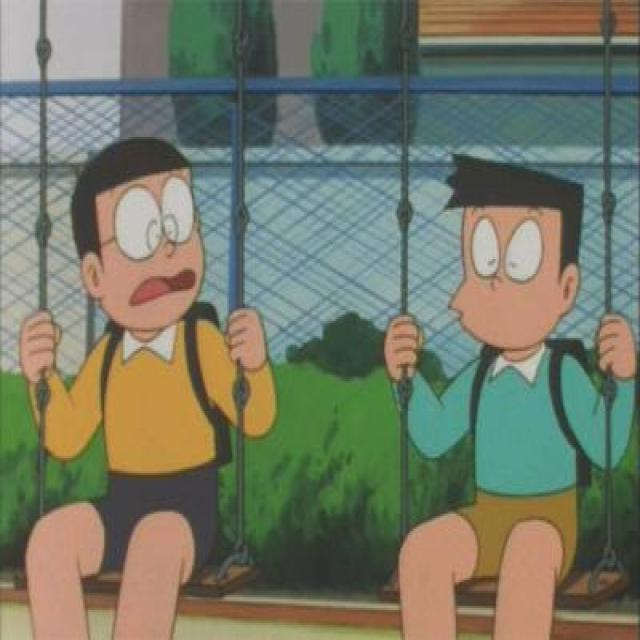nobita: (64, 133, 226, 349)
suneo: (429, 142, 584, 372)
